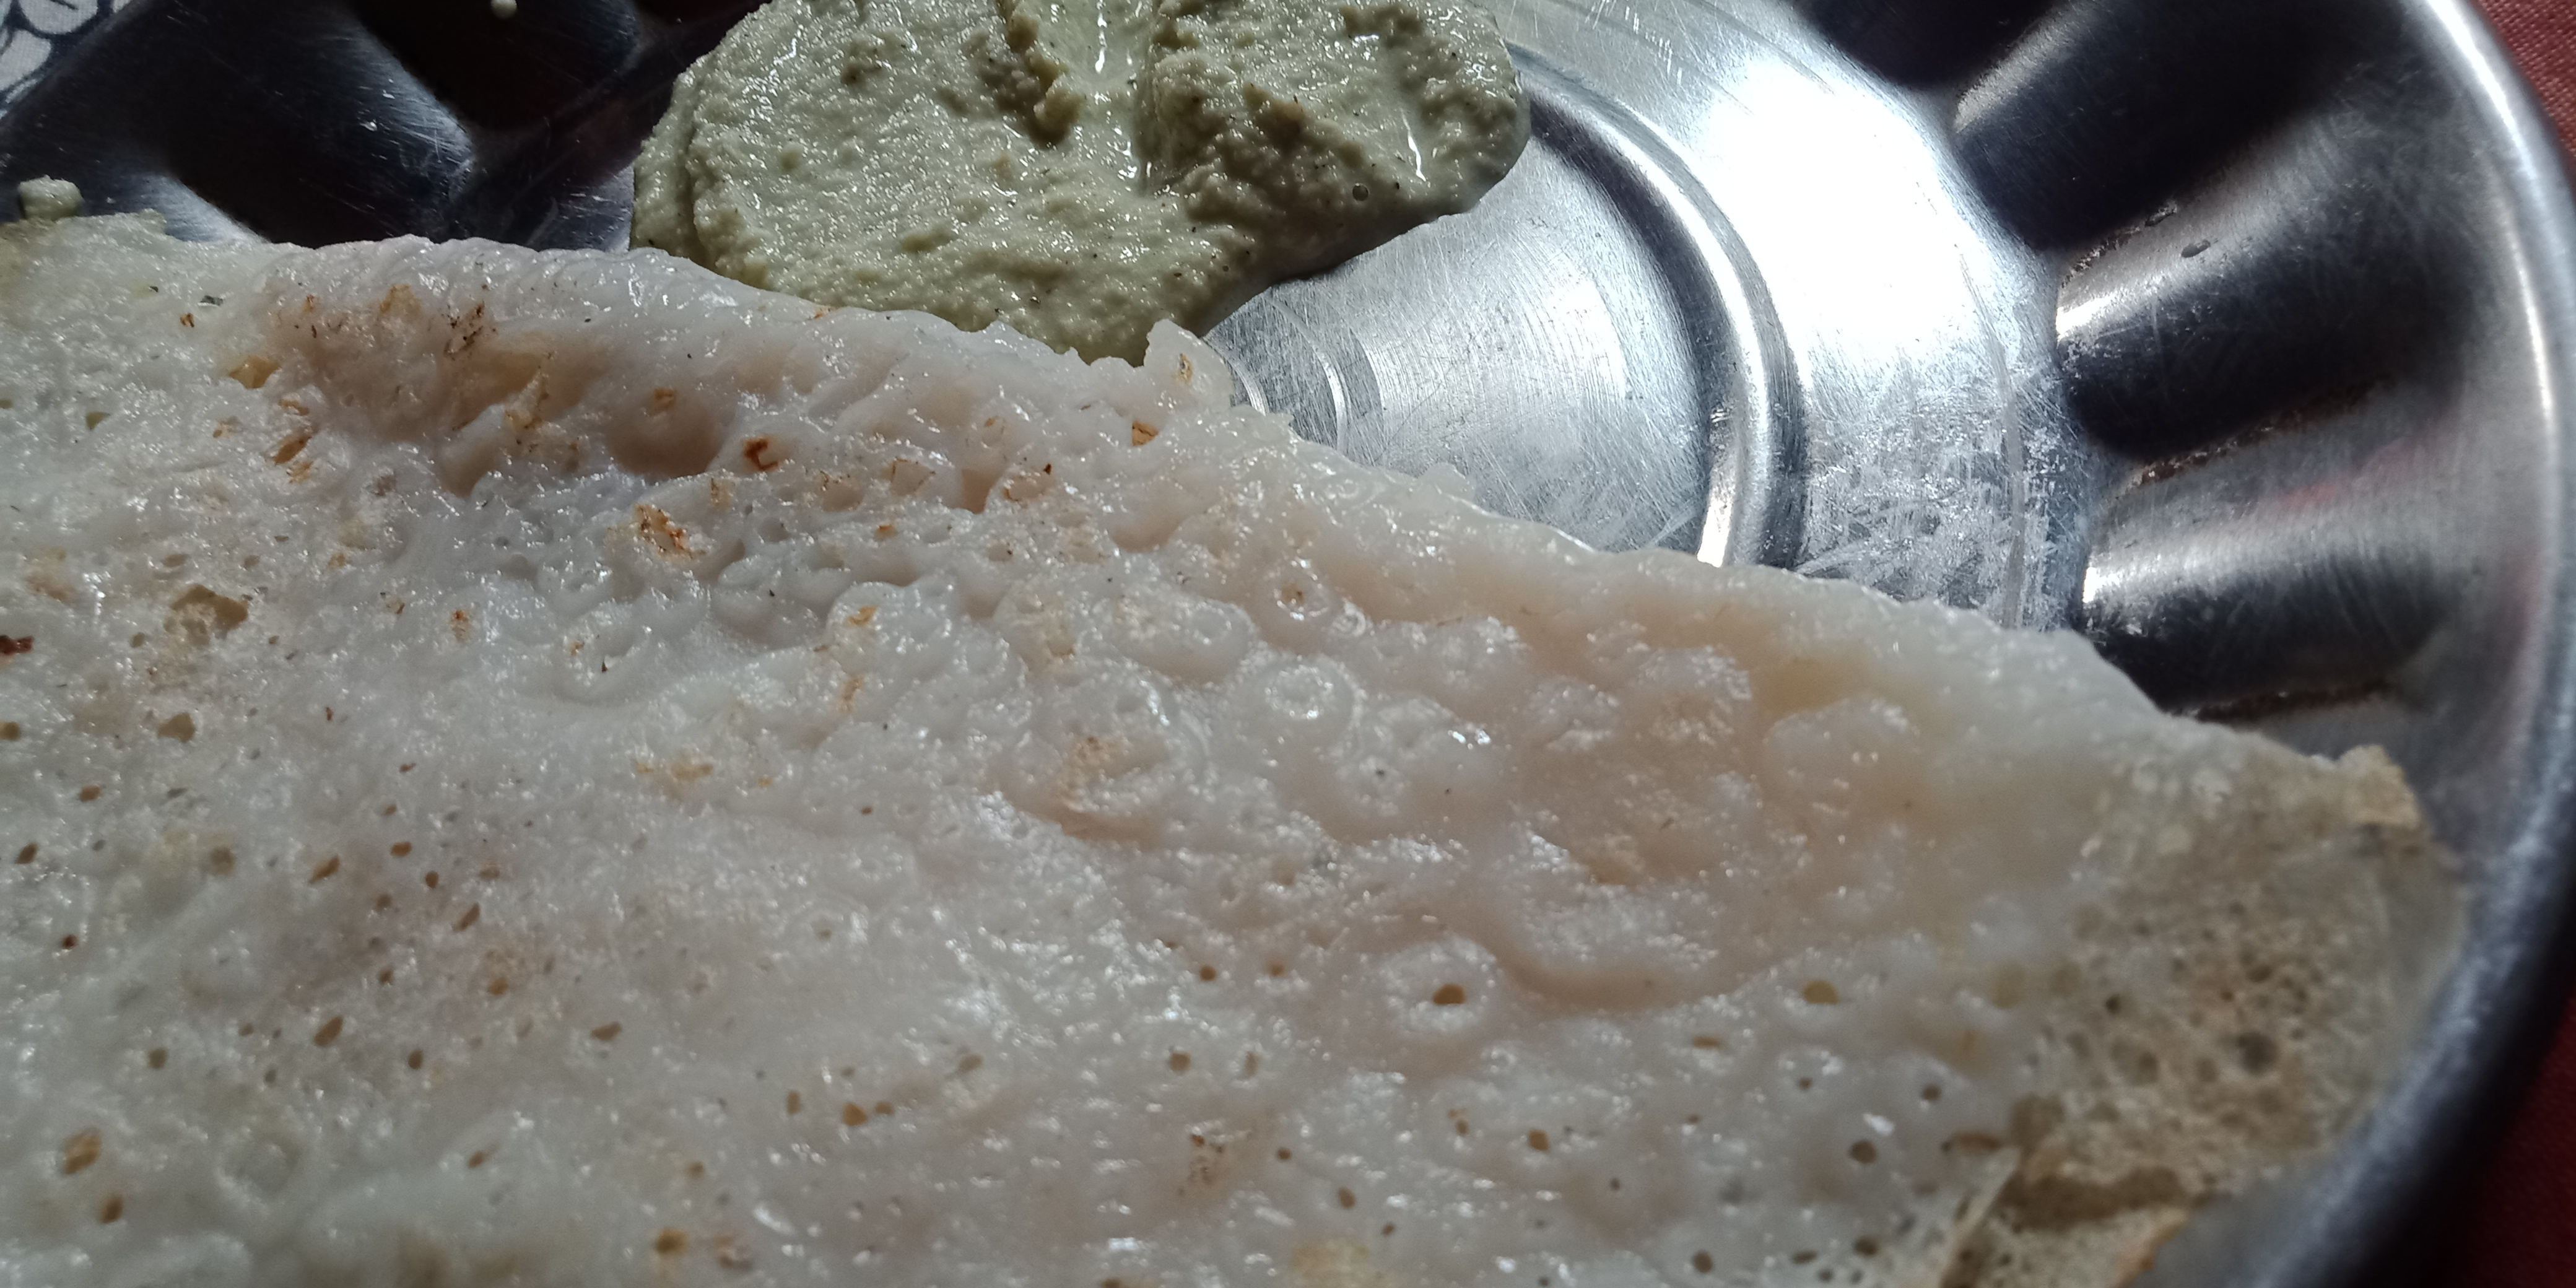food: (0, 0, 2451, 1288)
